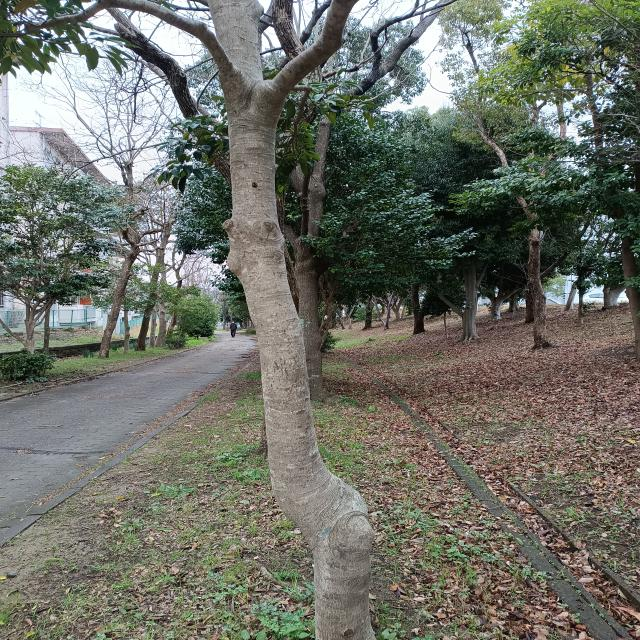Branch: (22, 0, 234, 71), (105, 7, 206, 121), (256, 0, 359, 99), (341, 7, 443, 95), (207, 0, 265, 85), (271, 0, 306, 59)
Twig: (370, 0, 458, 68), (290, 85, 313, 144), (301, 0, 331, 44), (78, 21, 120, 37), (160, 0, 209, 11), (0, 30, 30, 37)
